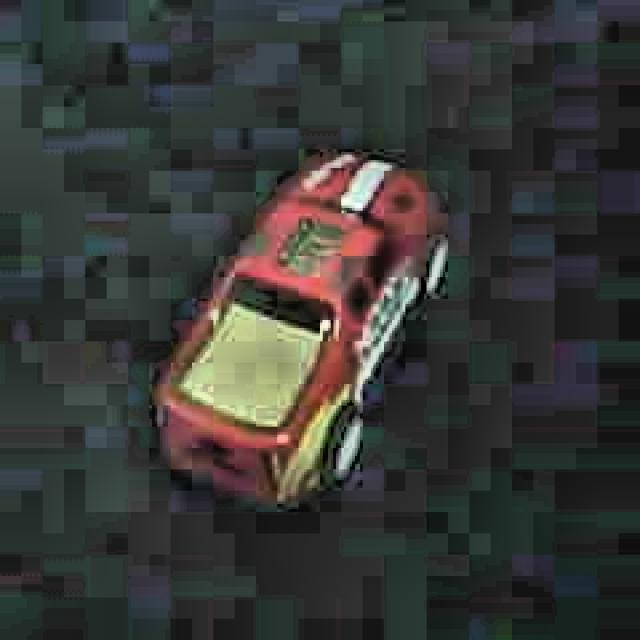car: (145, 144, 451, 502)
